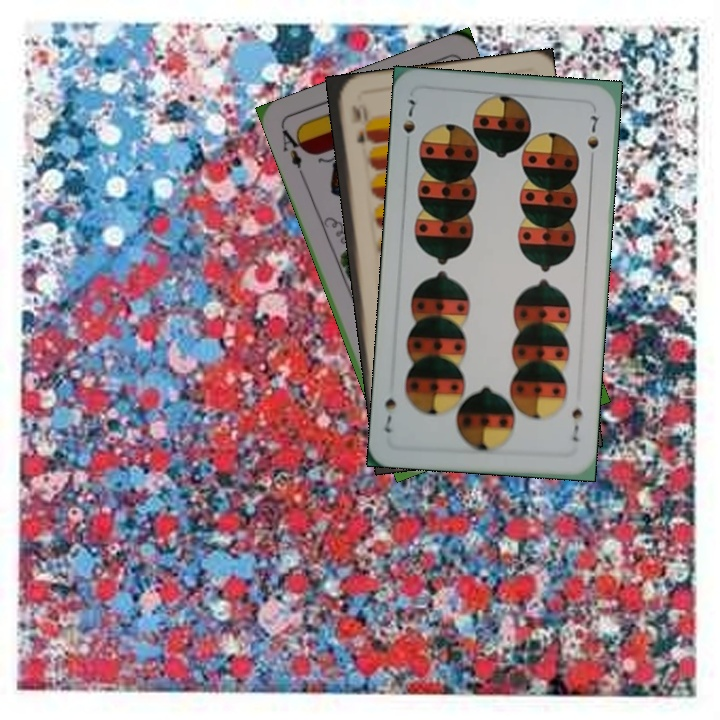E10: (346, 100, 368, 146)
EA: (277, 124, 308, 180)
S7: (399, 94, 419, 151), (568, 404, 585, 444)
